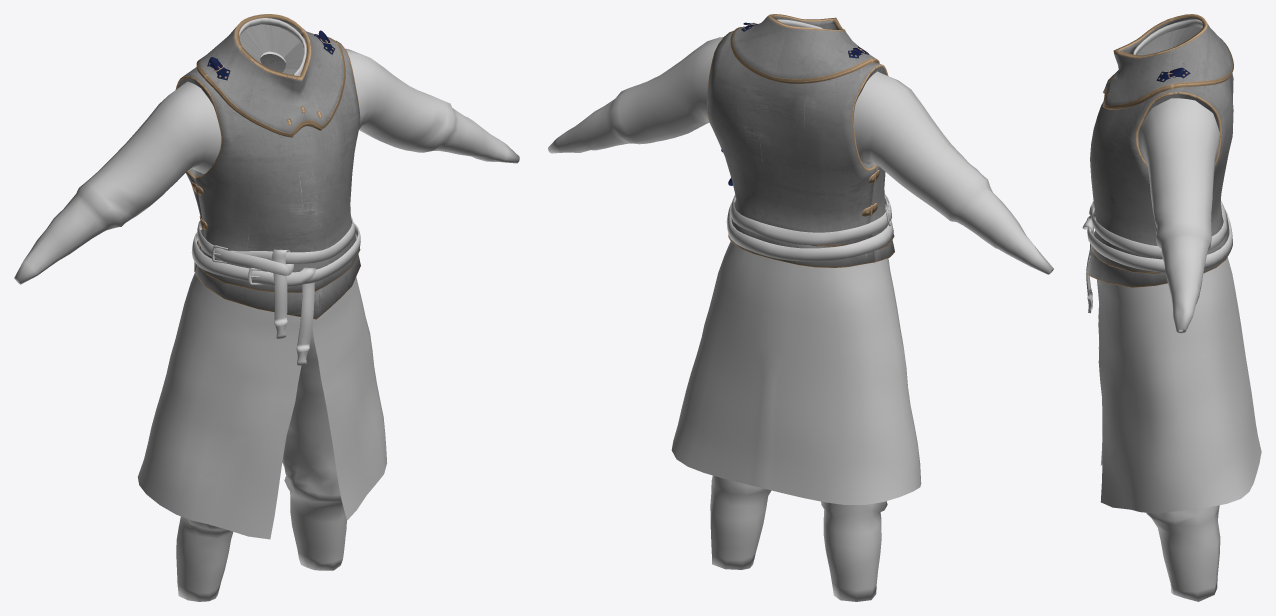
Rendered from swan_knight_armor_1b_t1_slim.fbx.
3 views of the same model, side by side, from view 1: azimuth 30°, elevation 25°; view 2: azimuth 150°, elevation 25°; view 3: azimuth 270°, elevation 25° (orthographic). The views are drawn at different scales.
Visible parts, largest first — view 1: swan_knight_armor_1b_t1_slim.0, swan_knight_armor_1b_t1_slim.1; view 2: swan_knight_armor_1b_t1_slim.0, swan_knight_armor_1b_t1_slim.1; view 3: swan_knight_armor_1b_t1_slim.0, swan_knight_armor_1b_t1_slim.1.
Boxes of the visible parts, x1,y1,x2,y2 form: swan_knight_armor_1b_t1_slim.0: [14, 18, 519, 601]; swan_knight_armor_1b_t1_slim.1: [175, 14, 360, 319]; swan_knight_armor_1b_t1_slim.0: [548, 19, 1053, 601]; swan_knight_armor_1b_t1_slim.1: [707, 14, 894, 267]; swan_knight_armor_1b_t1_slim.0: [1082, 19, 1261, 601]; swan_knight_armor_1b_t1_slim.1: [1086, 14, 1233, 287].
Bounding box in the file's own units: 1.3 × 0.4125 × 1.38.
